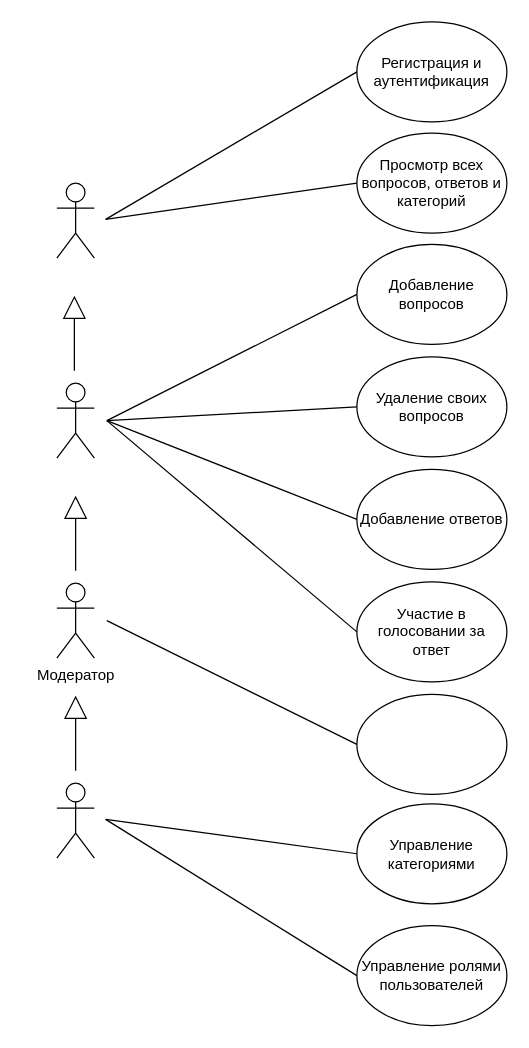
Image size: 529x1048. Some labels were removed from this diagram. Each missing label, with the centre of its shape:
"Администратор" goes at pixel 75 820.
"Гость" goes at pixel 75 220.
"Пользователь" goes at pixel 75 420.
"Управление всеми вопросами и ответами" goes at pixel 431 743.
